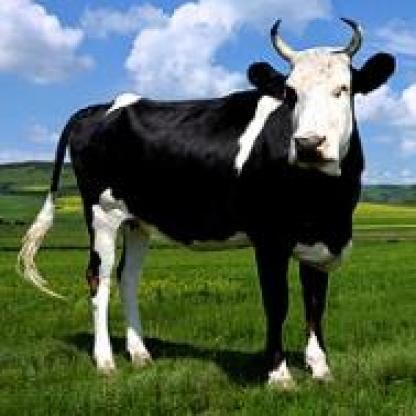cow: (21, 48, 395, 386)
